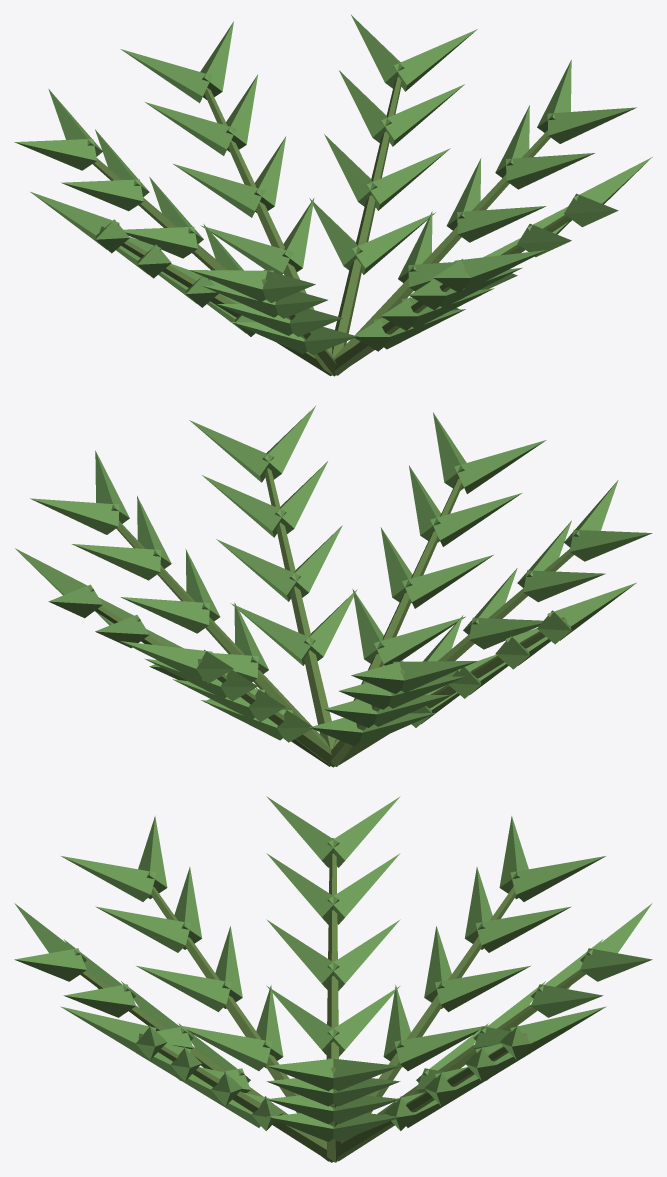
File: fern-clump.glb
The picture shows the model from 3 angles, top to bottom: view 1: azimuth 30°, elevation 25°; view 2: azimuth 150°, elevation 25°; view 3: azimuth 270°, elevation 25°; orthographic projection. The views are drawn at different scales.
Parts seen in each view (by area): view 1: fern-clump; view 2: fern-clump; view 3: fern-clump.
Boxes of the visible parts, box(x1,y1,x2,y2) form: fern-clump: box(14, 15, 652, 376); fern-clump: box(15, 406, 652, 767); fern-clump: box(14, 796, 652, 1162).
Size of the model in its own units: 1.71 by 0.6768 by 1.71.
